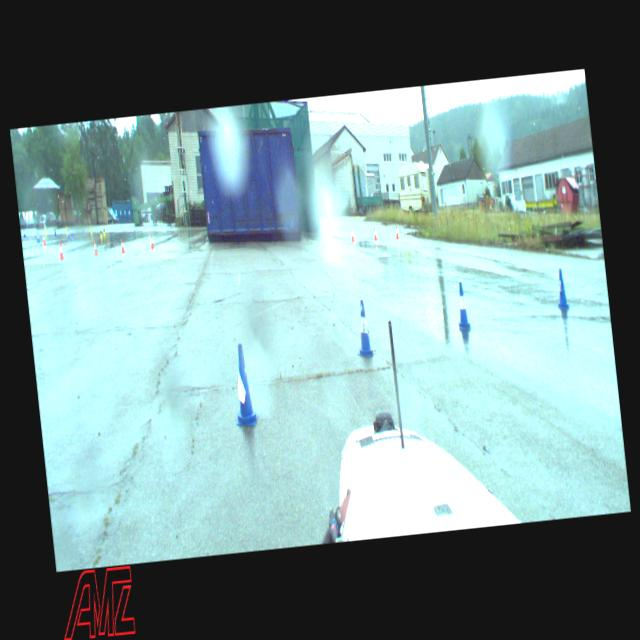blue_cone: (228, 343, 259, 426), (352, 299, 374, 357), (454, 282, 472, 329), (554, 268, 569, 308)
orange_cone: (58, 242, 64, 258), (92, 239, 98, 255), (372, 227, 377, 240), (120, 238, 124, 252), (41, 233, 46, 244), (150, 235, 154, 248), (326, 228, 330, 241), (394, 226, 398, 238), (350, 228, 354, 240)
yellow_cone: (99, 228, 102, 236), (102, 226, 105, 234)
